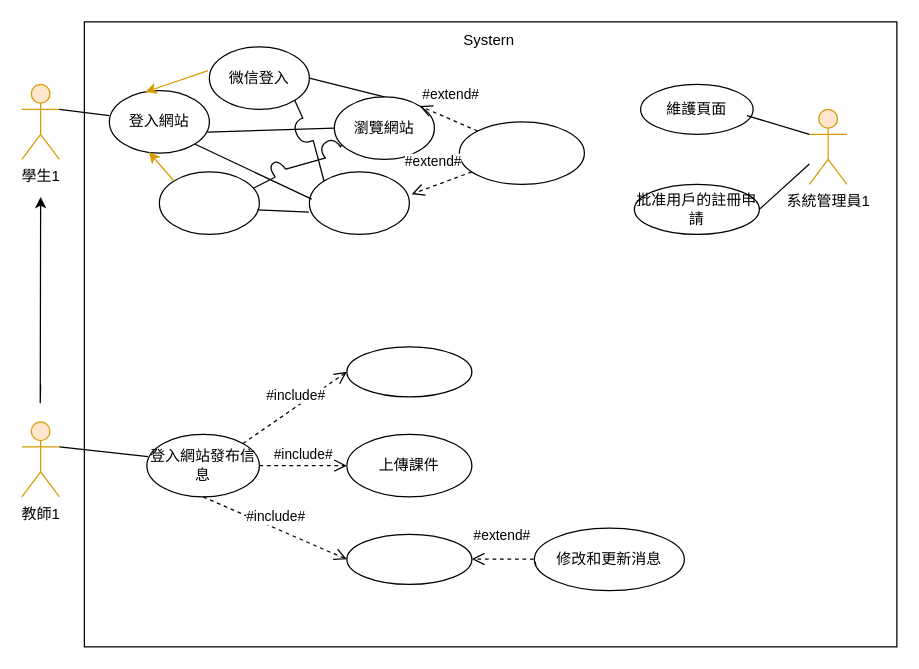
This 919x669 diagram has some shape labels left out. The centre of each missing label's shape, as x and y in pixels:
"下載文件" belongs at (x=521, y=152).
"帳號登入" belongs at (x=208, y=202).
"查找信息" belongs at (x=358, y=202).
"發布消息" belongs at (x=409, y=558).
"輸入課程簡介" belongs at (x=409, y=371).
